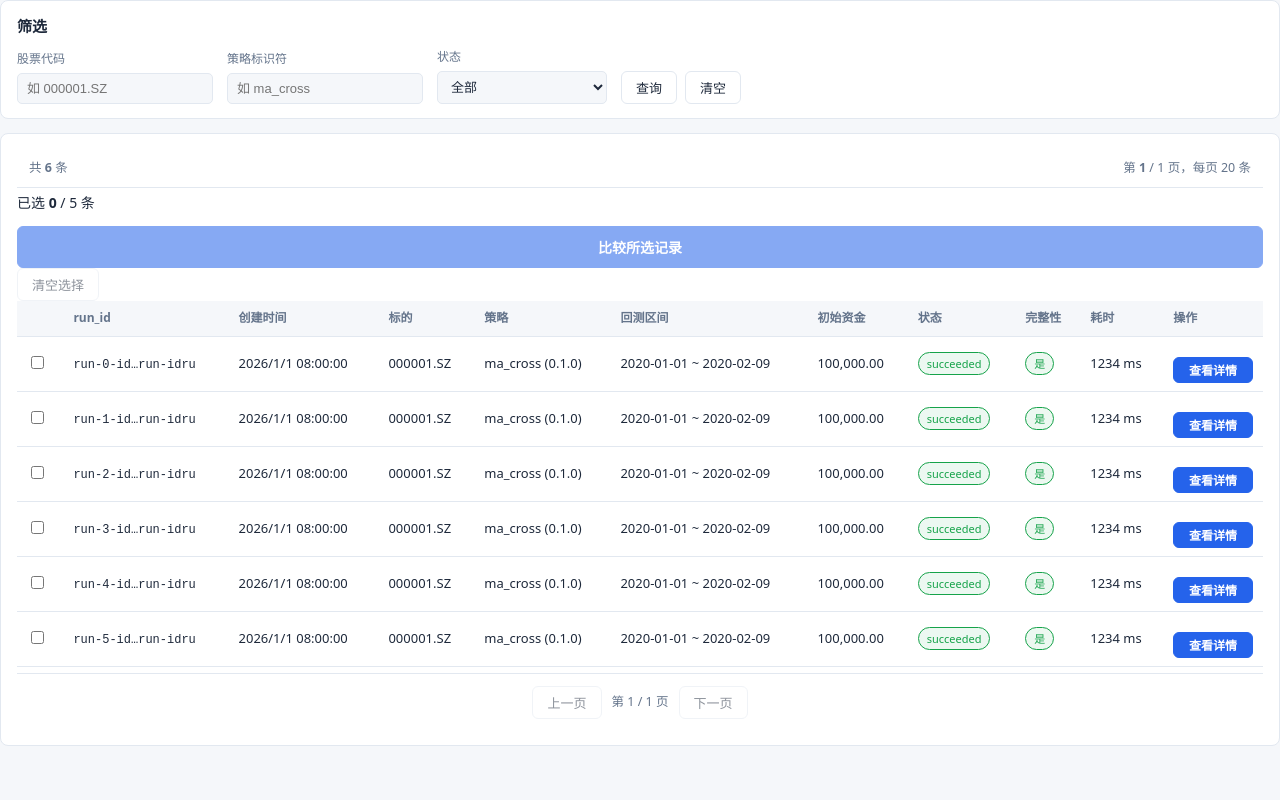
Scenario: HistoryList › 超过 5 条上限后其他 checkbox 禁用
Click the checkbox with test id "select-run-0-idrun-idrun-idru": [38, 362] box [31,356,44,369]
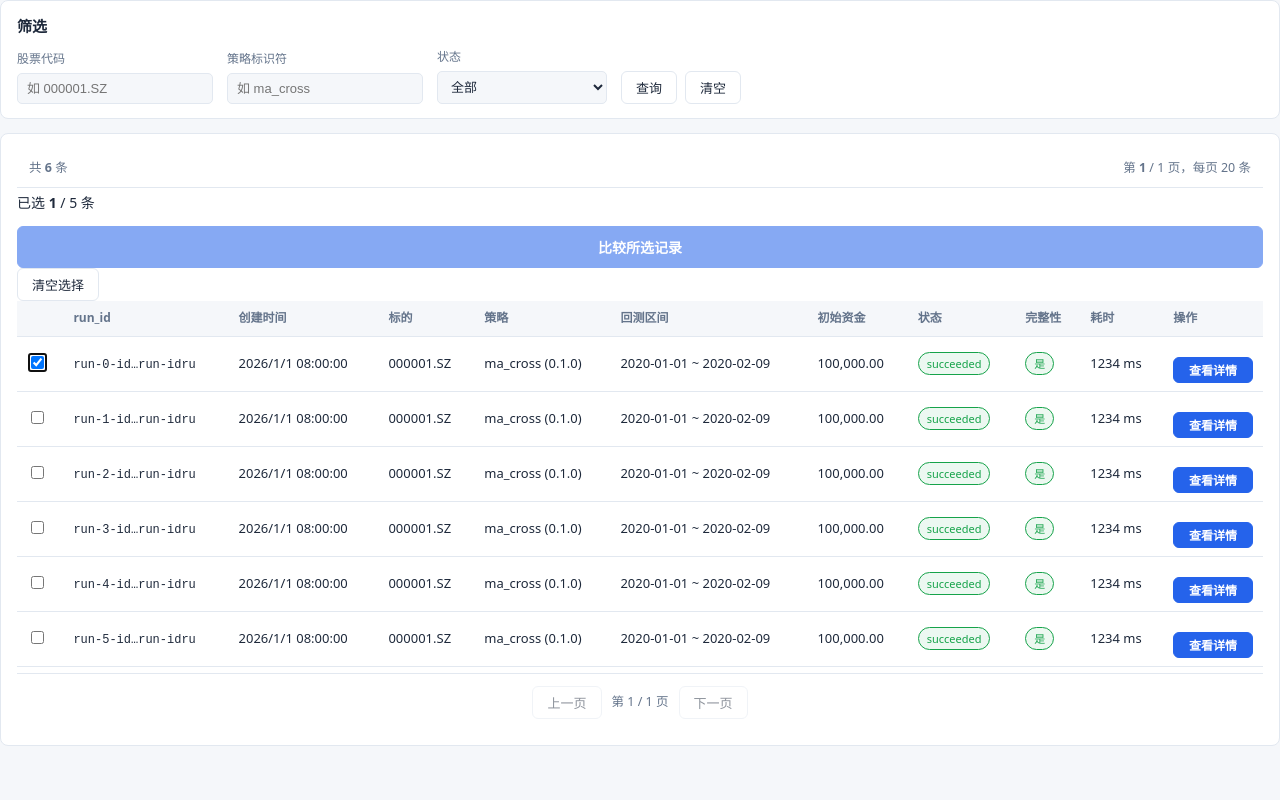
Click the checkbox named "选择 run run-1-id…run-idru": [38, 417] box [31,411,44,424]
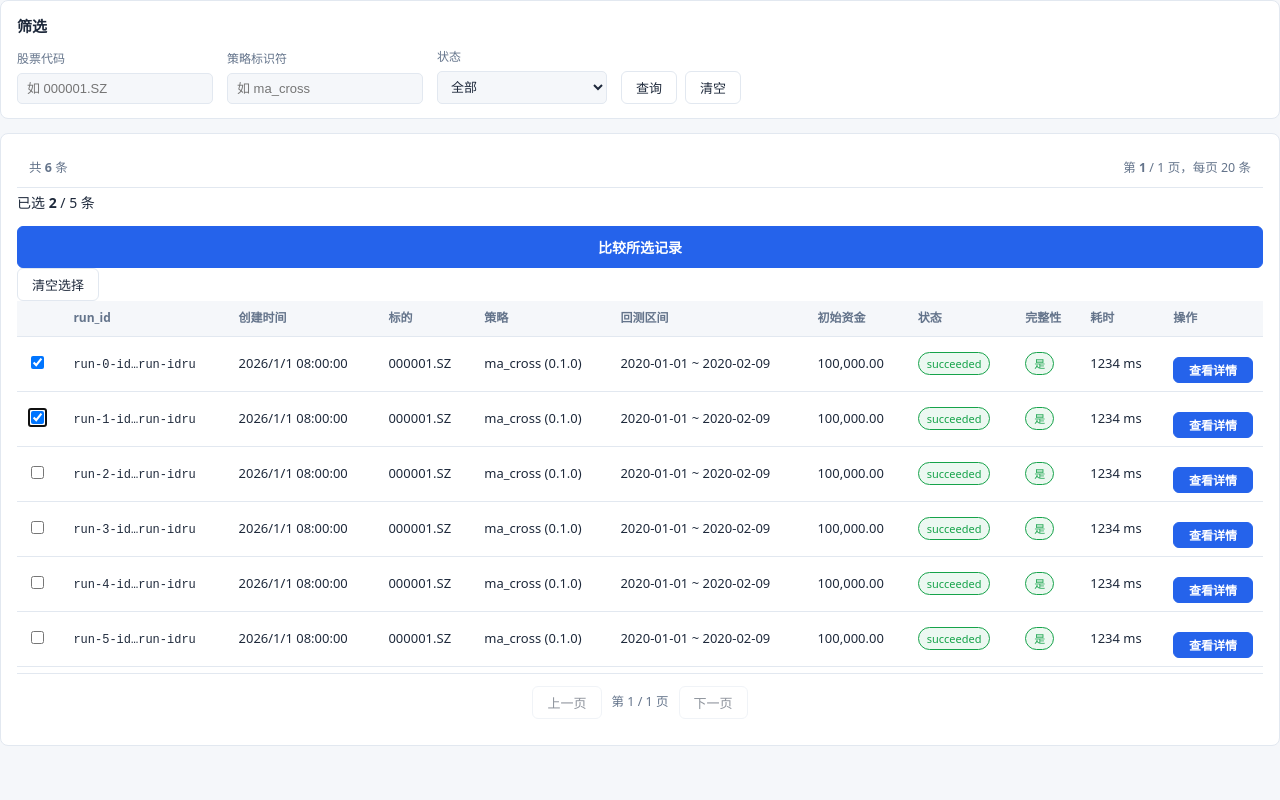
Click the checkbox named "选择 run run-2-id…run-idru": [38, 472] box [31,466,44,479]
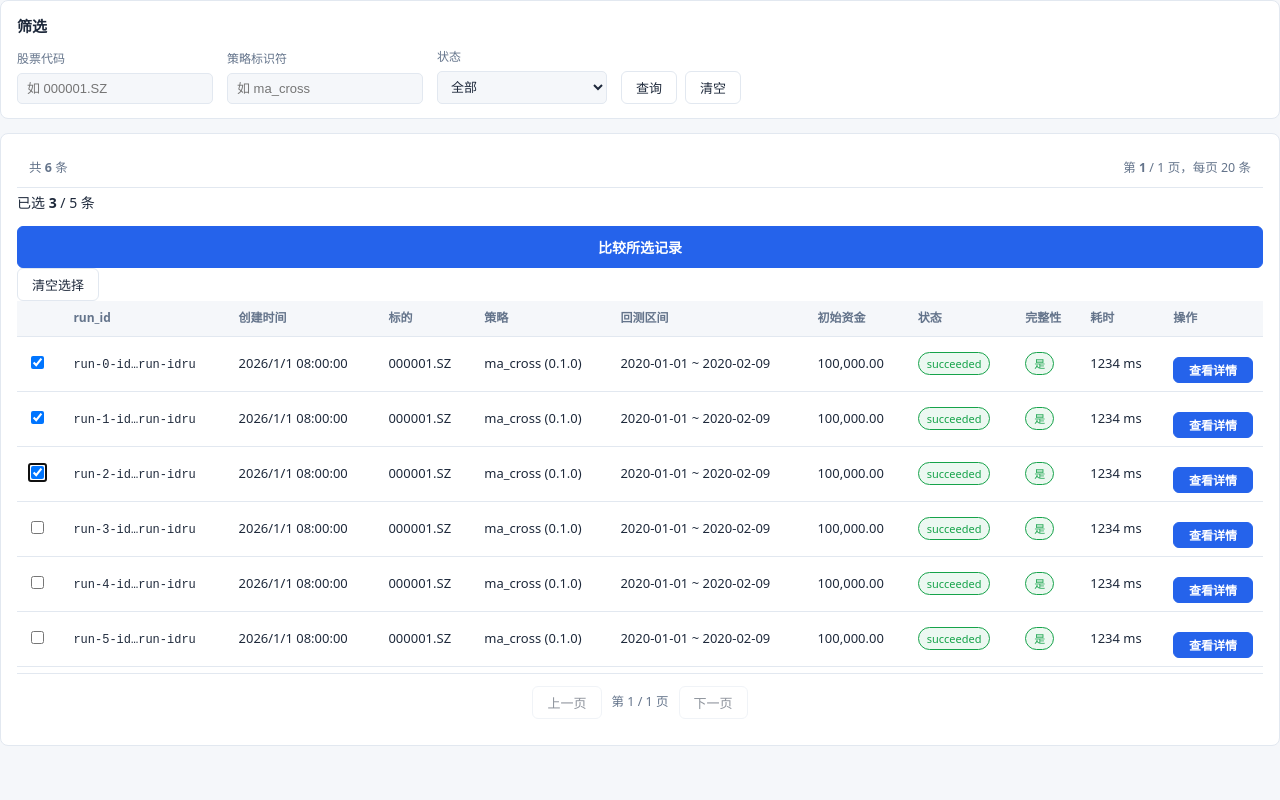
Click the checkbox named "选择 run run-3-id…run-idru": [38, 527] box [31,521,44,534]
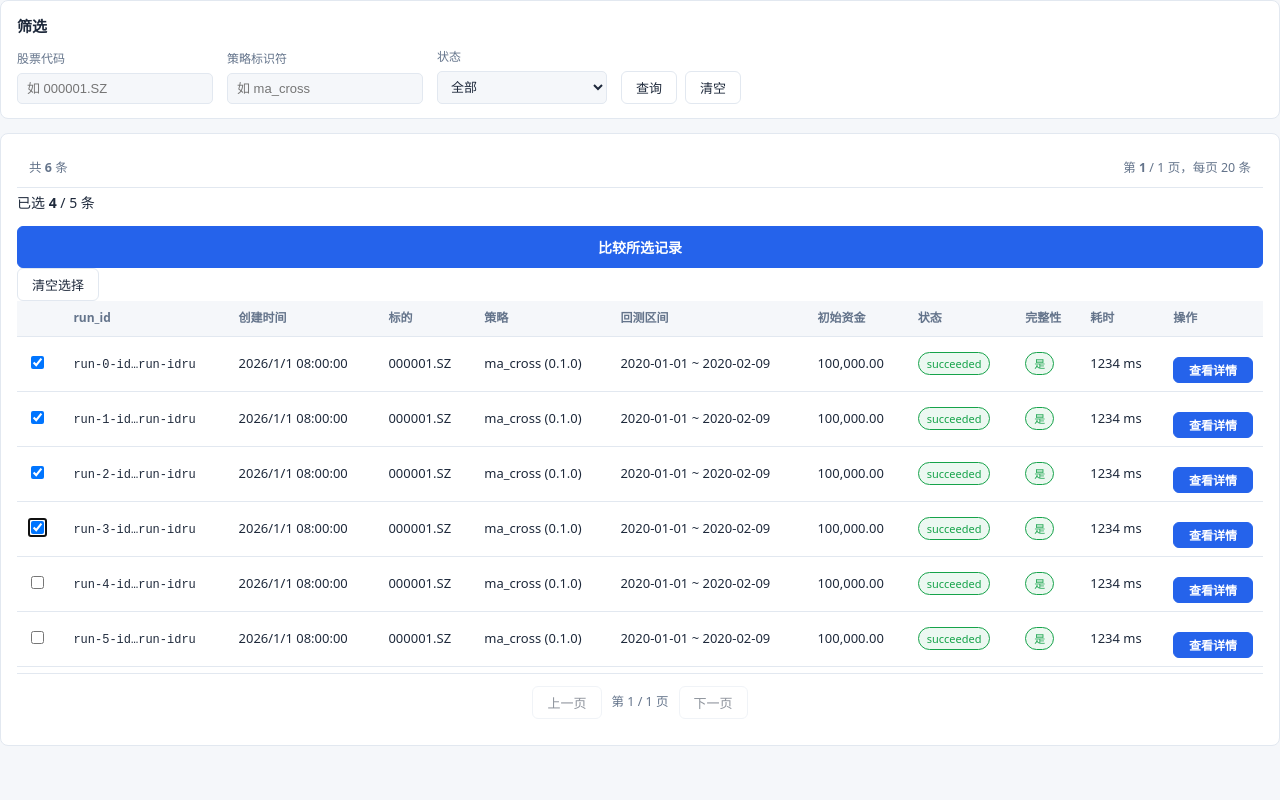
Click the checkbox named "选择 run run-4-id…run-idru": [38, 582] box [31,576,44,589]
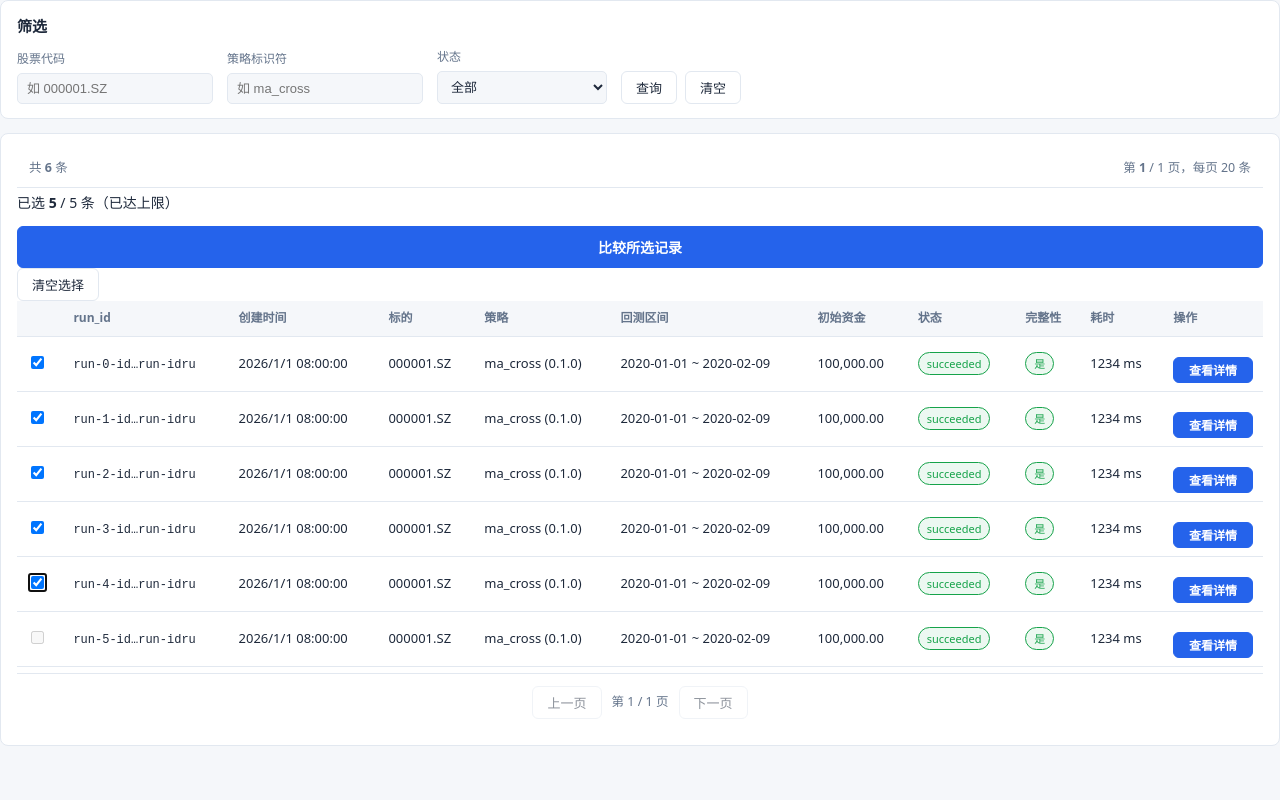
Now the checkbox with test id "select-run-5-idrun-idrun-idru" is disabled, box [31,631,44,644]
Click the checkbox with test id "select-run-0-idrun-idrun-idru": [38, 362] box [31,356,44,369]
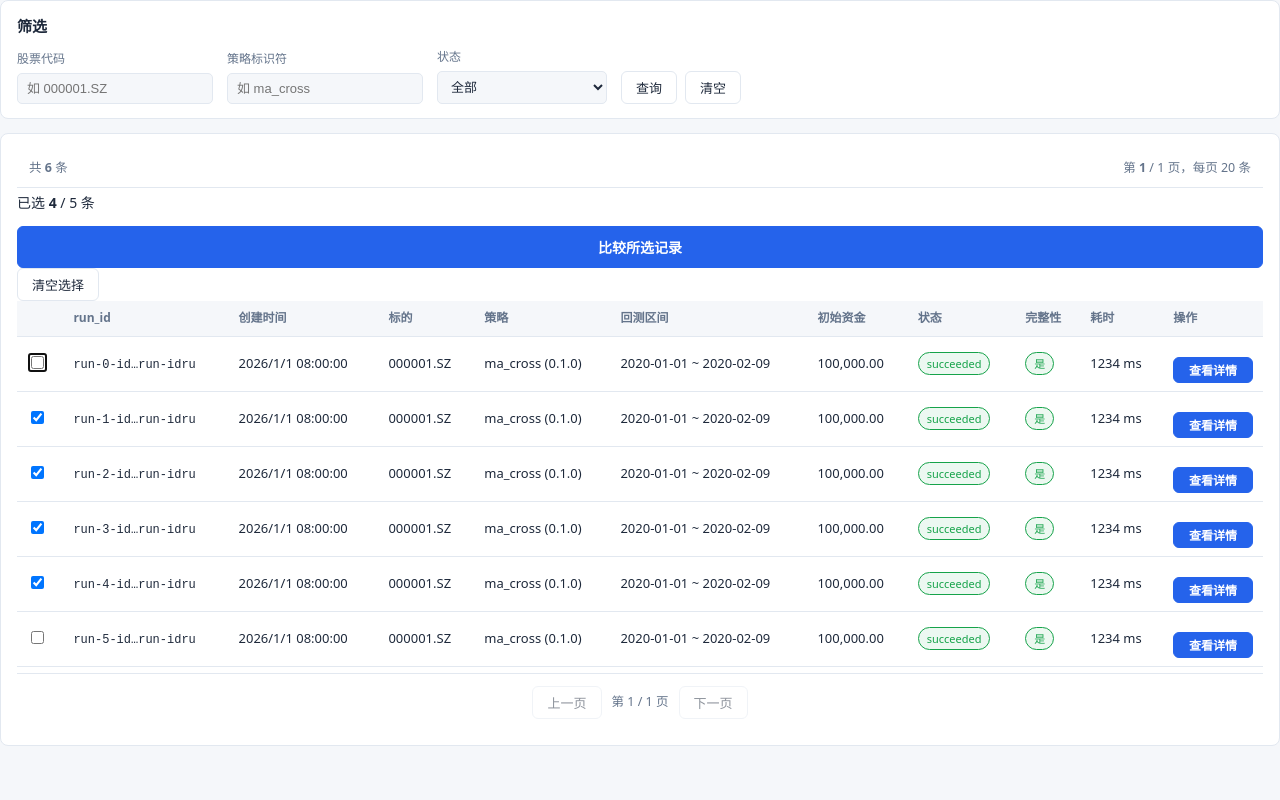
Now the checkbox with test id "select-run-5-idrun-idrun-idru" is enabled, box [31,631,44,644]
